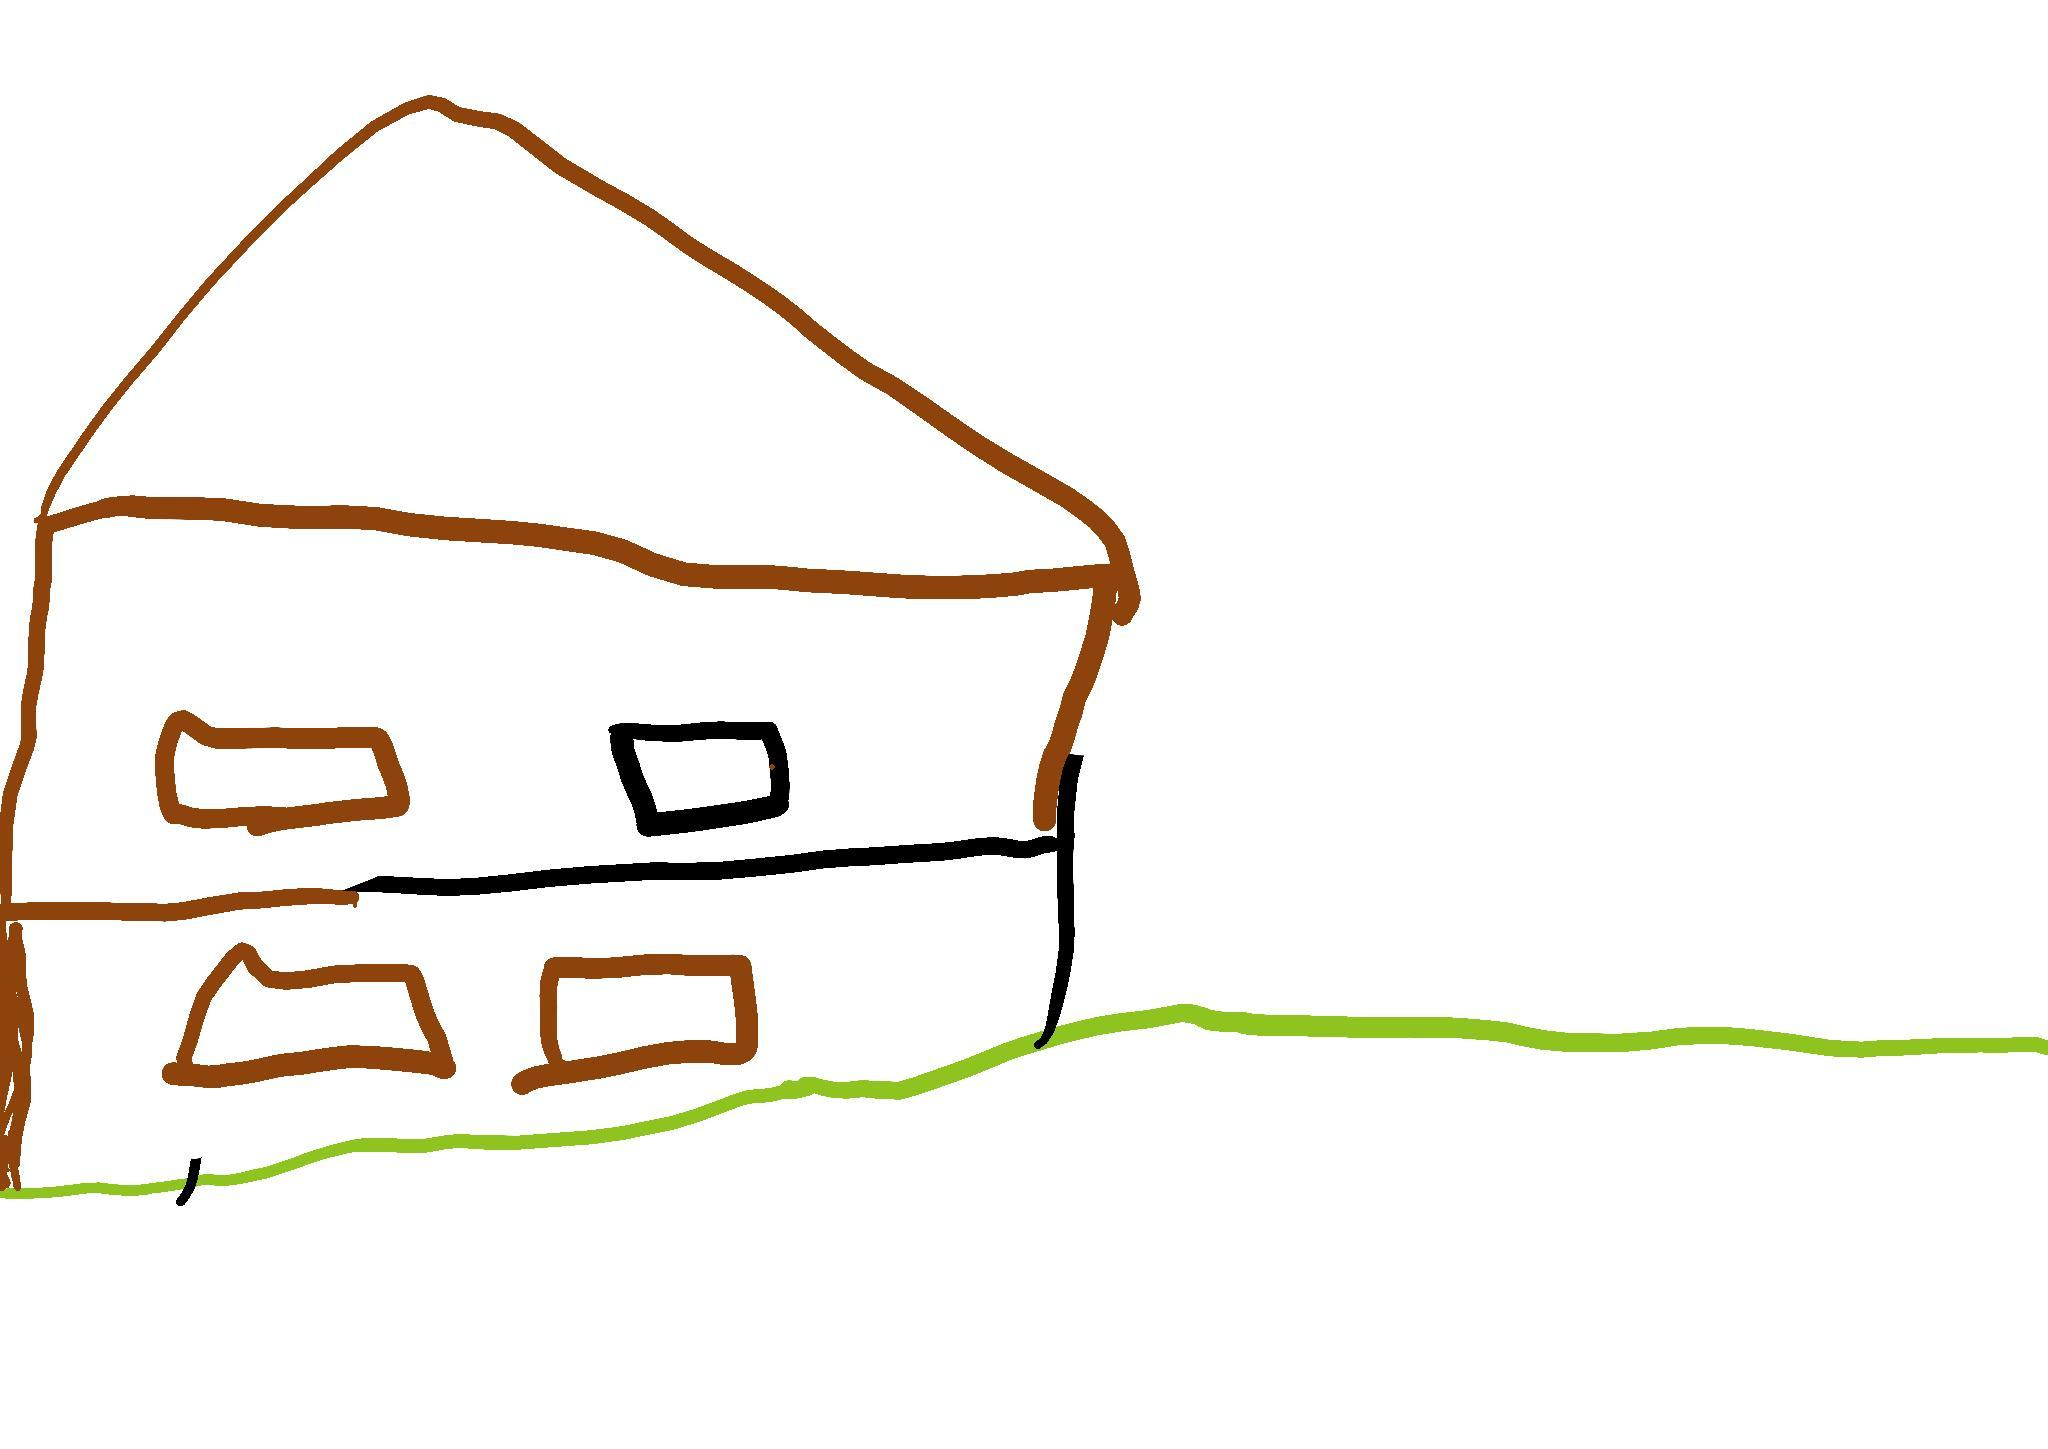roof: (55, 111, 1106, 574)
wall: (11, 517, 1090, 903), (20, 855, 1057, 1186)
window: (191, 963, 425, 1066), (608, 721, 789, 836), (172, 735, 383, 808), (557, 979, 734, 1060)
